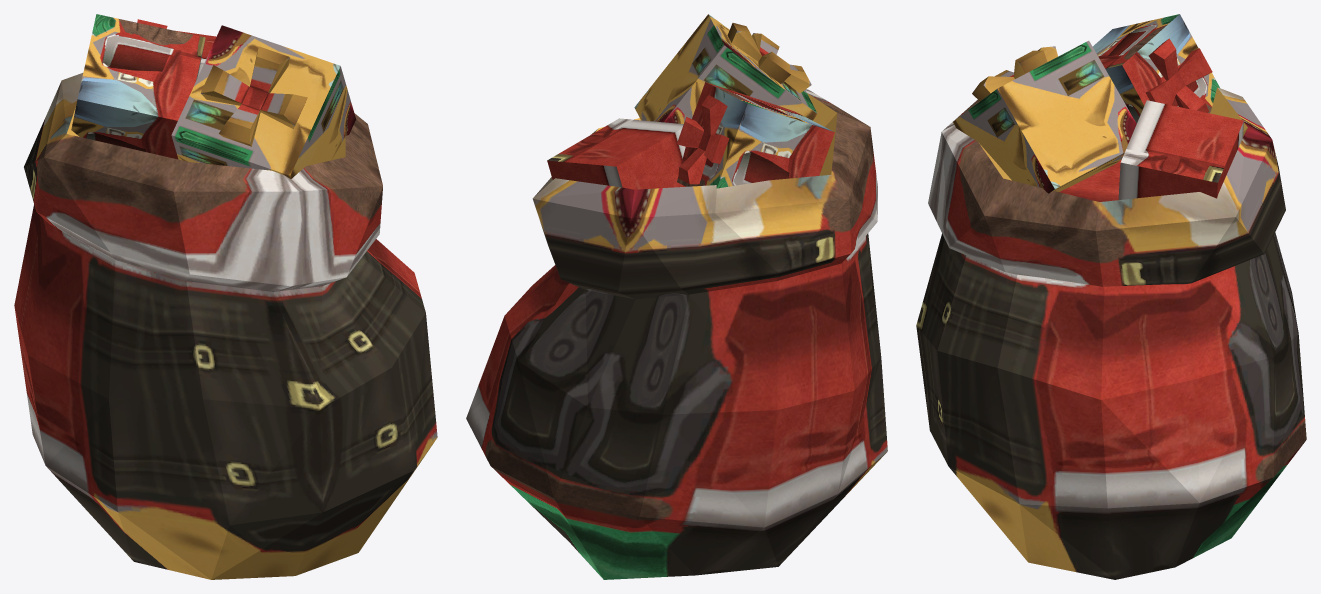
Rendered from Chameleon_santaBag.obj.
3 renders of one model, left to right at view 1: azimuth 30°, elevation 25°; view 2: azimuth 150°, elevation 25°; view 3: azimuth 270°, elevation 25°, orthographic. The views are drawn at different scales.
Visible parts, largest first — view 1: Chameleon_santaBag_tri; view 2: Chameleon_santaBag_tri; view 3: Chameleon_santaBag_tri.
Boxes of the visible parts, <box> form: Chameleon_santaBag_tri: <box>14,14,437,579</box>; Chameleon_santaBag_tri: <box>466,14,887,579</box>; Chameleon_santaBag_tri: <box>916,14,1306,579</box>.
Size of the model in its own units: 0.4347 by 0.6129 by 0.4263.
1 material, 1 textured.
